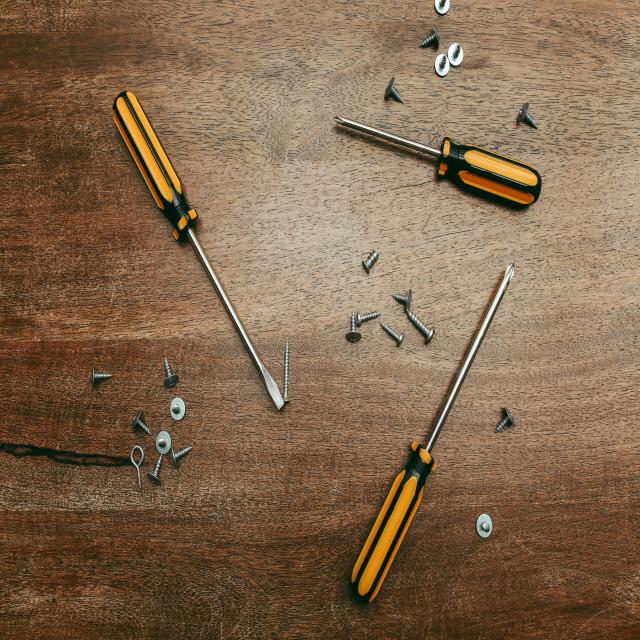Screwdriver: (351, 264, 514, 602), (112, 92, 284, 411), (335, 116, 541, 206)
